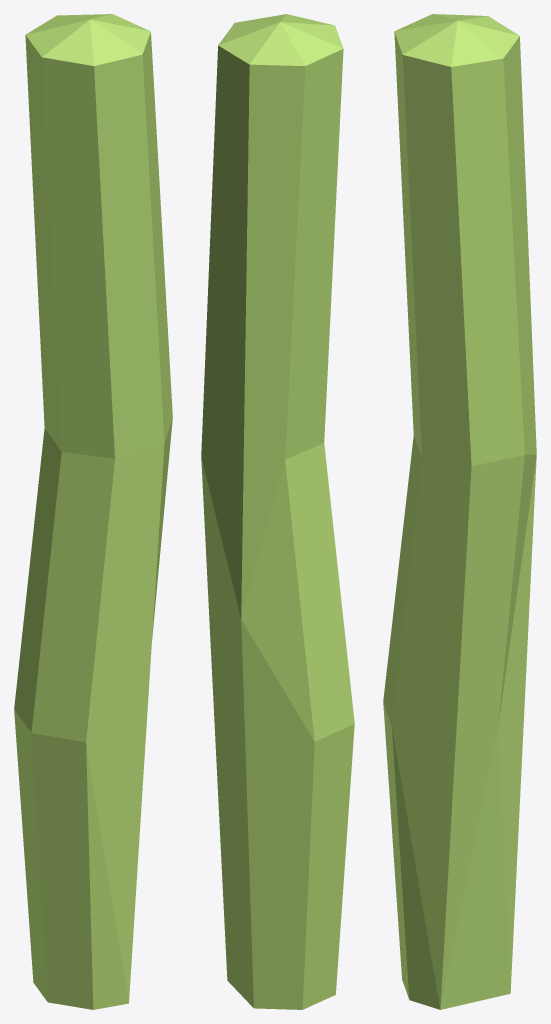
Rendered from Cactus_b_m_01.fbx.
3 views of the same model, side by side, from view 1: azimuth 30°, elevation 25°; view 2: azimuth 150°, elevation 25°; view 3: azimuth 330°, elevation 25° (orthographic).
Parts seen in each view (by area): view 1: Cactus_b_m_01; view 2: Cactus_b_m_01; view 3: Cactus_b_m_01.
Part boxes in pixels (<box>): Cactus_b_m_01: <box>14,14,172,1009</box>; Cactus_b_m_01: <box>201,14,354,1009</box>; Cactus_b_m_01: <box>383,14,536,1009</box>.
Bounding box in the file's own units: 41.75 × 272 × 33.63.
